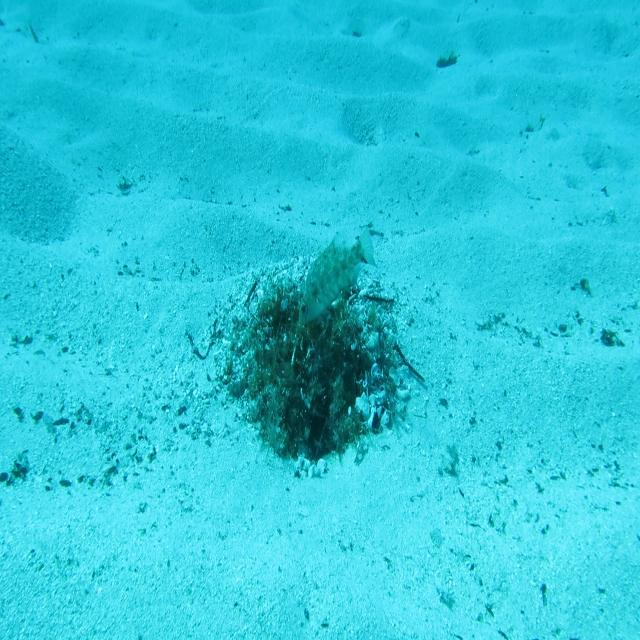INSF: (296, 222, 380, 330)
core_nest: (284, 306, 332, 343)
nest: (210, 254, 419, 484)
vegetation: (433, 53, 459, 73)
